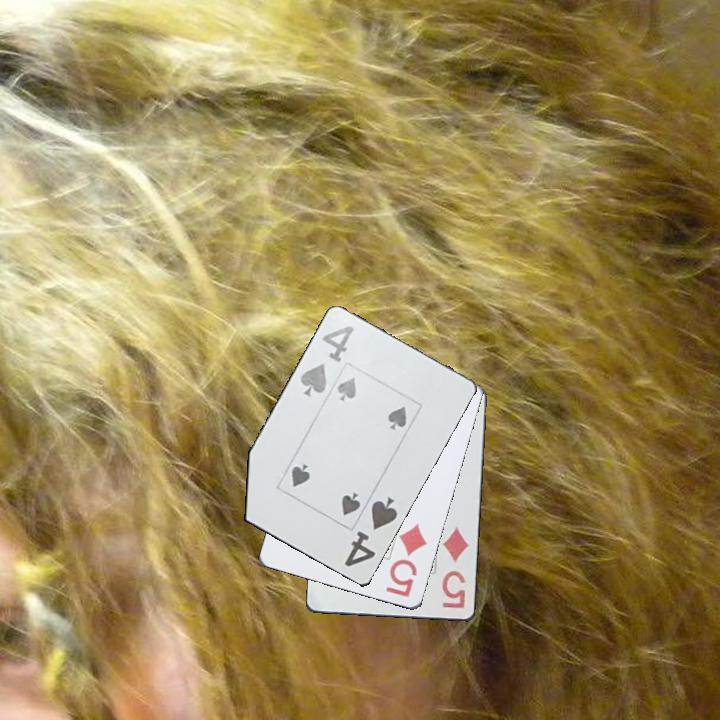4s: (297, 322, 357, 400), (341, 494, 401, 570)
5d: (382, 520, 430, 600), (439, 524, 472, 612)
